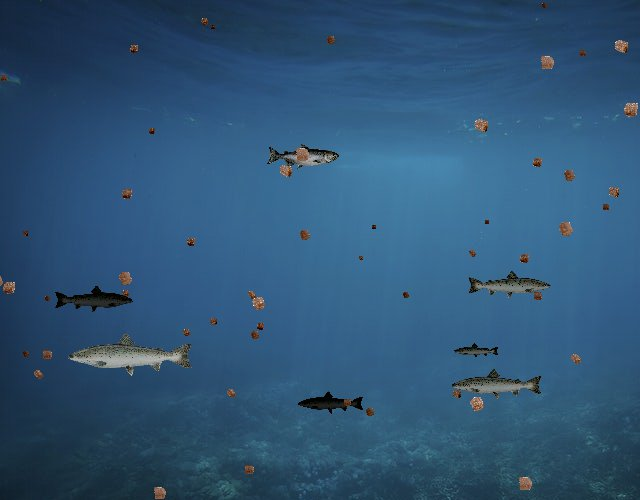Fish: (66, 331, 195, 377), (451, 368, 545, 402), (466, 269, 552, 300), (53, 284, 134, 313), (267, 144, 340, 170), (298, 391, 366, 415), (453, 342, 500, 359)
Pellet: (244, 290, 272, 318), (272, 158, 299, 185), (616, 94, 640, 124), (538, 0, 551, 12), (19, 227, 31, 239)
